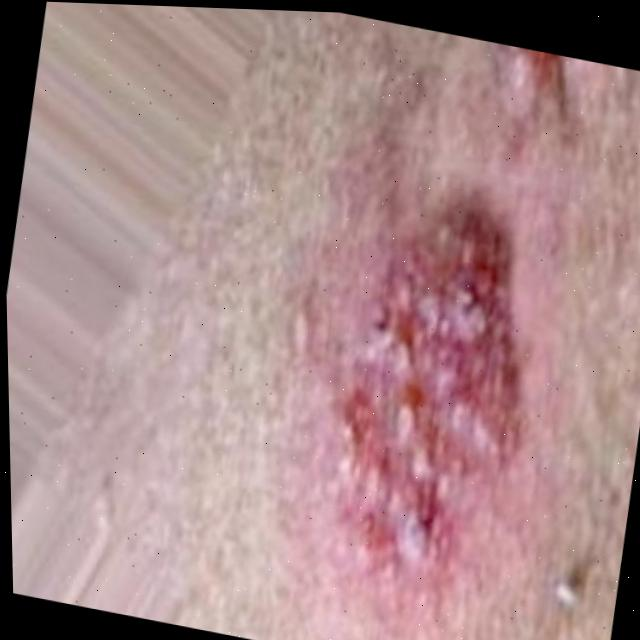Shingles: (314, 194, 553, 581)
